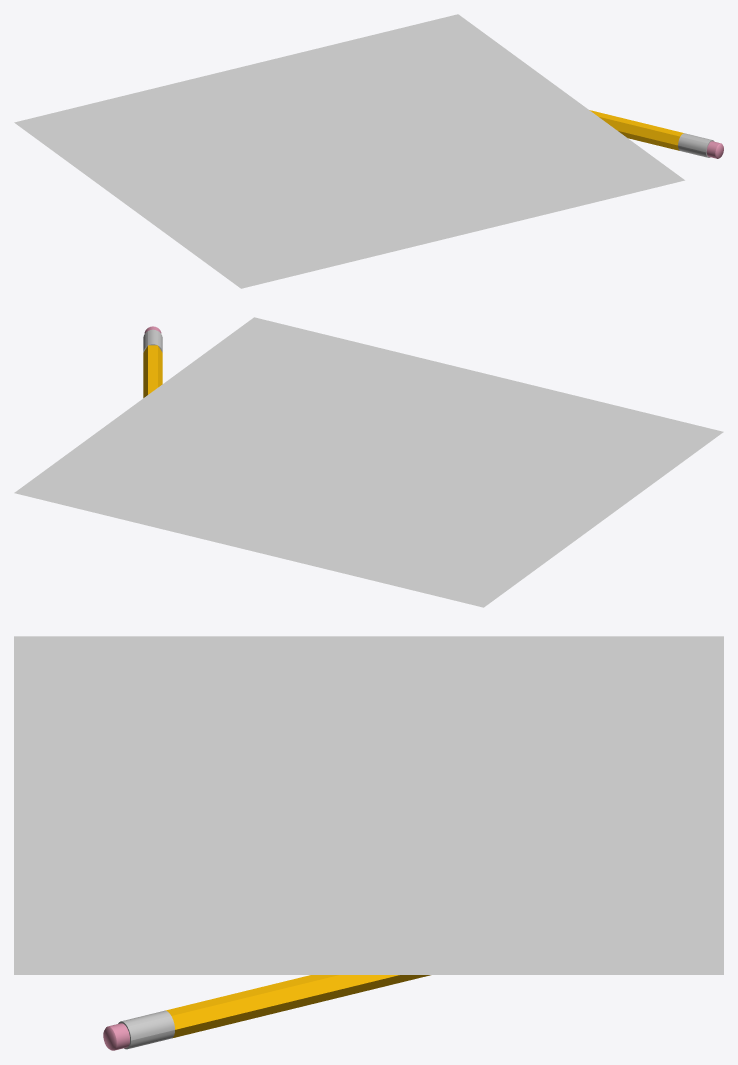
3 views of the same model, one above another, from view 1: azimuth 30°, elevation 25°; view 2: azimuth 150°, elevation 25°; view 3: azimuth 270°, elevation 25° (orthographic). The views are drawn at different scales.
Visible parts, largest first — view 1: Paper, MGK_Pencil (×2); view 2: Paper, MGK_Pencil; view 3: Paper, MGK_Pencil (×2).
Part boxes in pixels (x1,y1,x2,y2): Paper: (14,14,684,288); MGK_Pencil (×2): (589,110,714,157); Paper: (14,317,723,607); MGK_Pencil: (143,345,162,397); Paper: (14,636,723,974); MGK_Pencil (×2): (118,975,430,1049).
Bounding box in the file's own units: 631 × 482 × 20.44.
